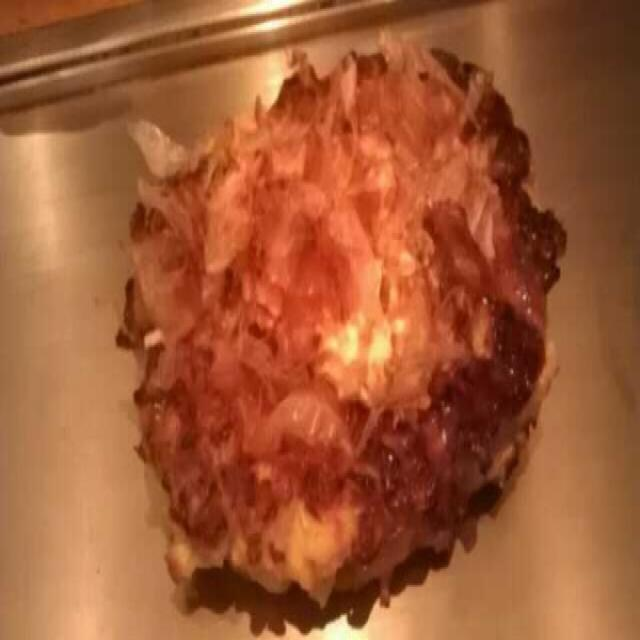蛋糕甜品: (126, 42, 557, 634)
